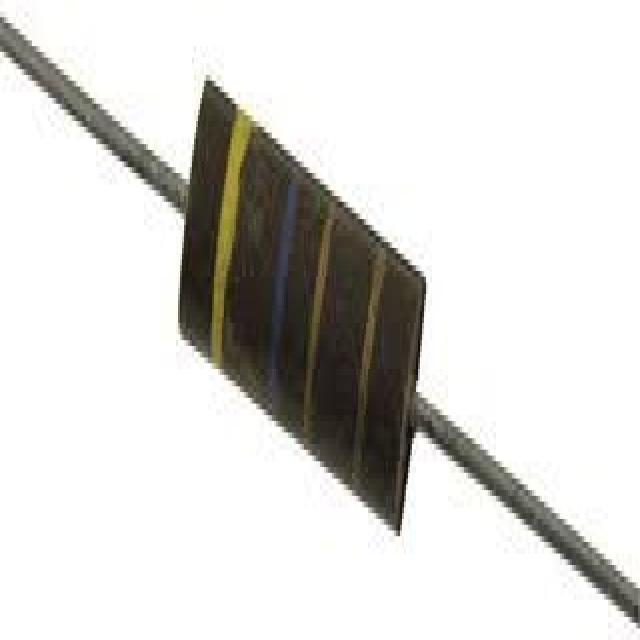Resistor: (177, 74, 427, 536)
